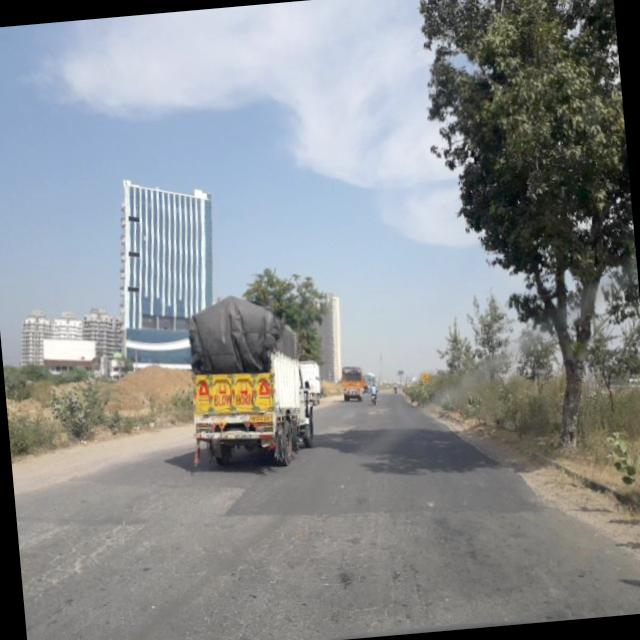crack: (164, 493, 463, 640)
